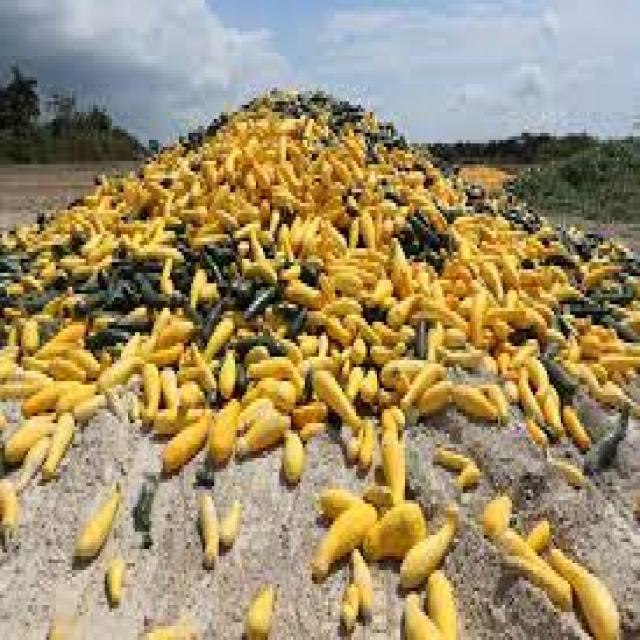Wet: (490, 520, 574, 610), (549, 538, 623, 638), (9, 405, 78, 484), (212, 129, 293, 193), (315, 504, 377, 581), (421, 364, 502, 422), (73, 477, 122, 560), (363, 504, 428, 566), (396, 525, 462, 586), (386, 278, 462, 329), (206, 376, 248, 462), (134, 347, 177, 431), (309, 367, 362, 431), (155, 414, 208, 475), (195, 487, 221, 572)
